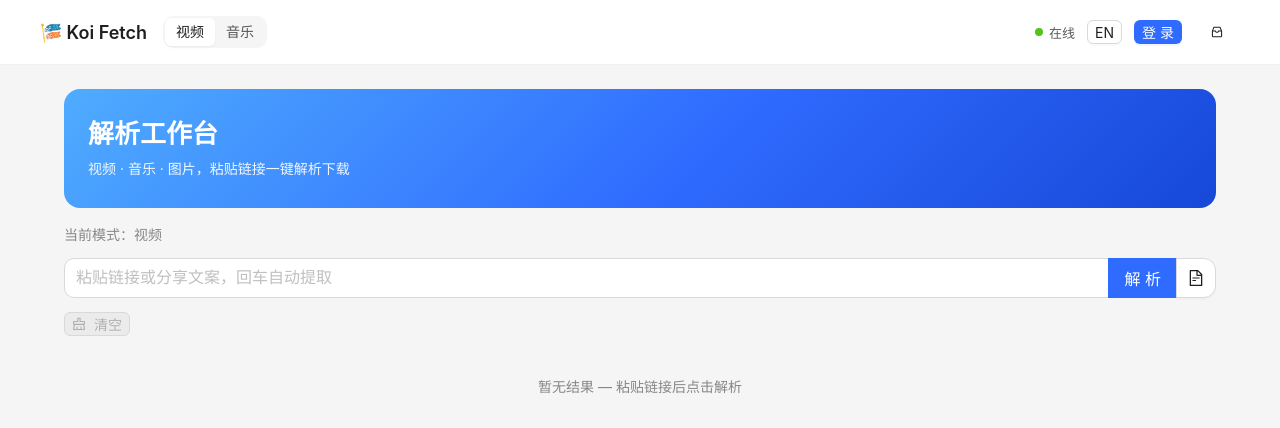
router › switches the main page content to music via the Topbar tab
The width and height of the screenshot is (1280, 428).
Expected: the heading "解析工作台" is shown, [88, 118, 218, 149]
Click the text "音乐" at (240, 32), box [226, 23, 254, 40]
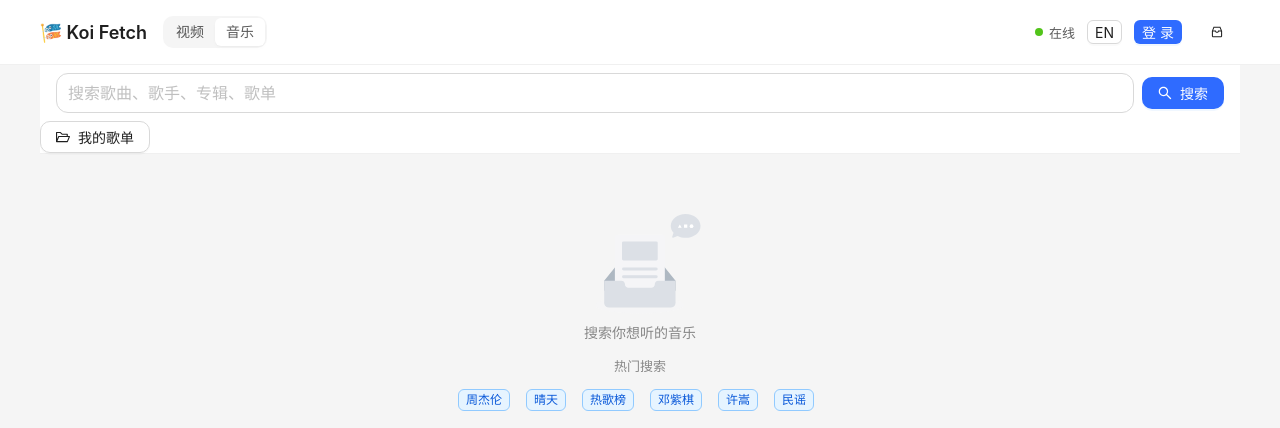
Expected: the header with test id "app-header" is shown, [0, 0, 1279, 65]
Result: the field with test id "music-search-input" is shown at [68, 81, 1106, 105]
Result: the heading "解析工作台" is gone
